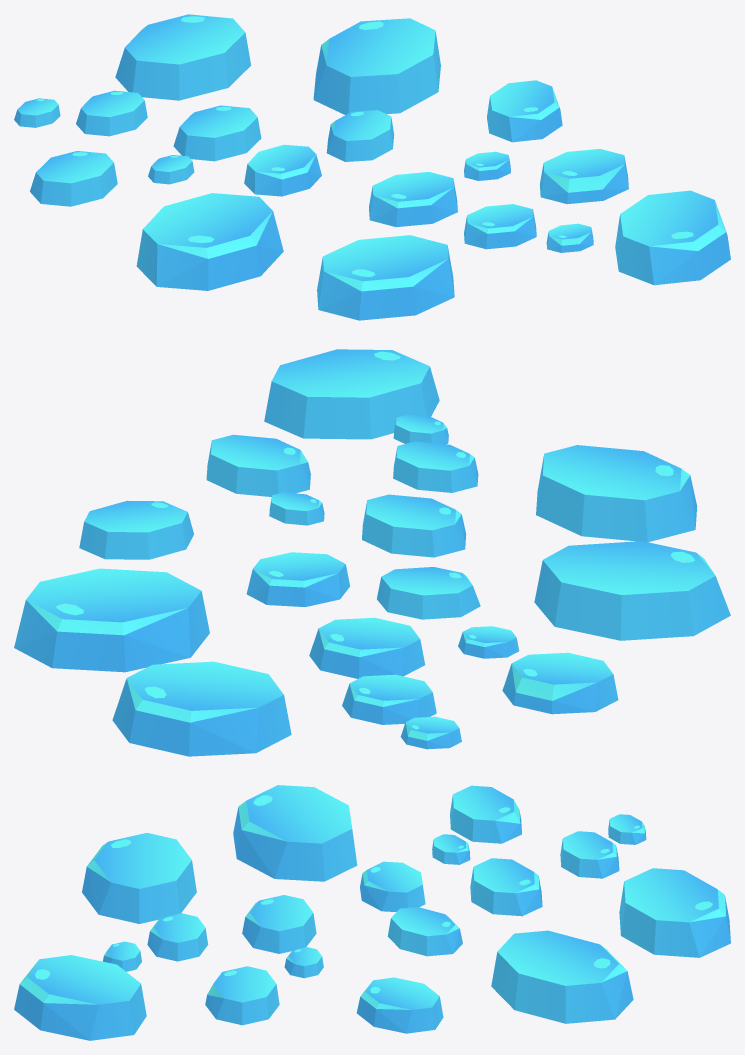
The model's file is waterdrop_002.glb.
3 views of the same model, one above another, from view 1: azimuth 30°, elevation 25°; view 2: azimuth 150°, elevation 25°; view 3: azimuth 270°, elevation 25° (orthographic). The views are drawn at different scales.
Visible parts, largest first — view 1: waterdrop.002; view 2: waterdrop.002; view 3: waterdrop.002.
Boxes of the visible parts, <box> form: waterdrop.002: <box>14,14,730,320</box>; waterdrop.002: <box>14,349,730,756</box>; waterdrop.002: <box>14,785,730,1040</box>.
Size of the model in its own units: 0.3374 by 0.0253 by 0.4446.
1 material, 1 textured.
